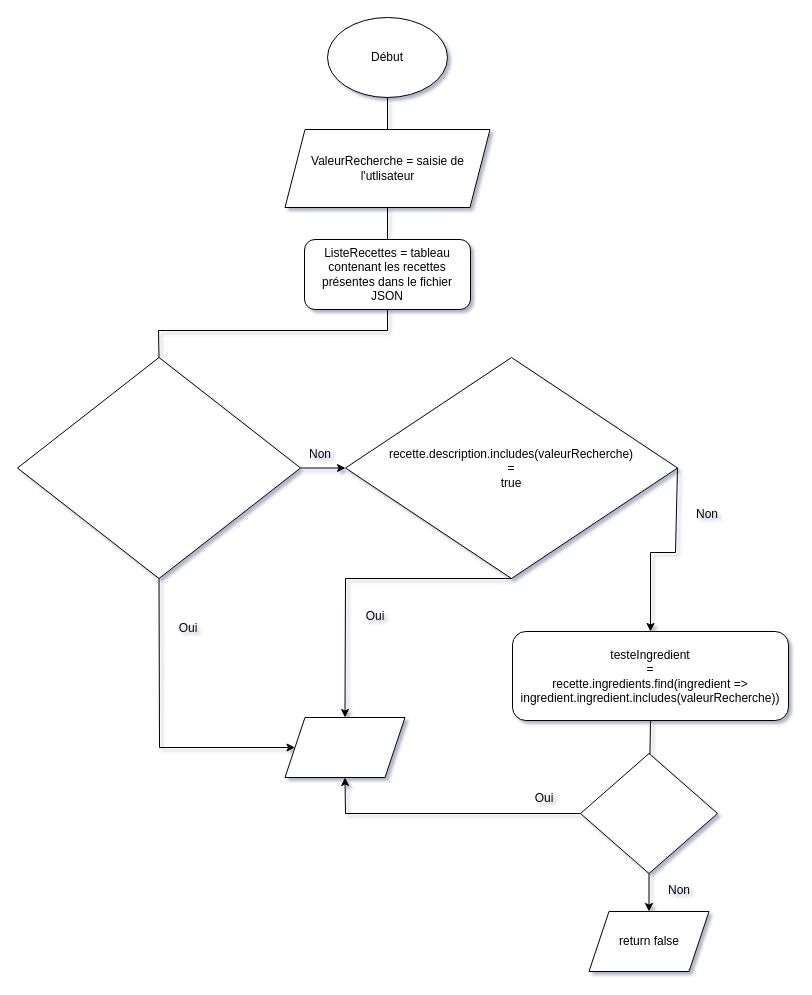
This 812x995 diagram has some shape labels left out. The shapes that lost their labels are listed below. From the top down, each one's centre as x and y in pixels, then its label:
the point at 158,467: recette.name.includes(valeurRecherche) = true
the point at 344,747: return true
the point at 649,813: testeIngredient = true
